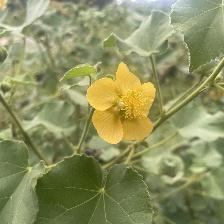indian mallow: (87, 62, 157, 149)
